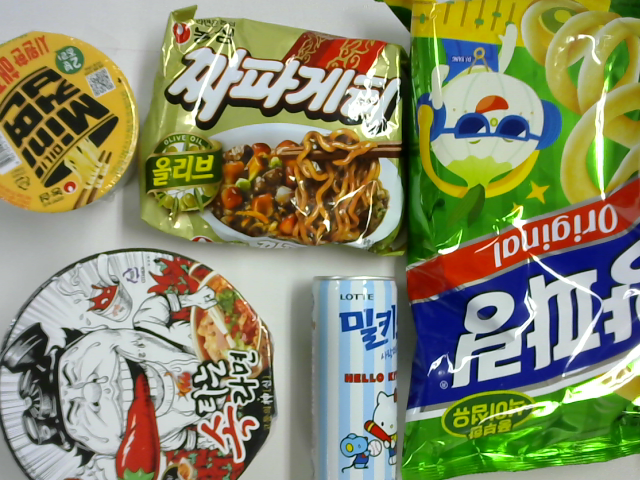HeJangsock: (1, 249, 272, 479)
Milkies_250ml: (306, 275, 401, 480)
Olive_Chapaghetti: (132, 35, 399, 242)
Oninon_Ring: (400, 1, 638, 453)
Udongmini: (1, 30, 143, 214)
